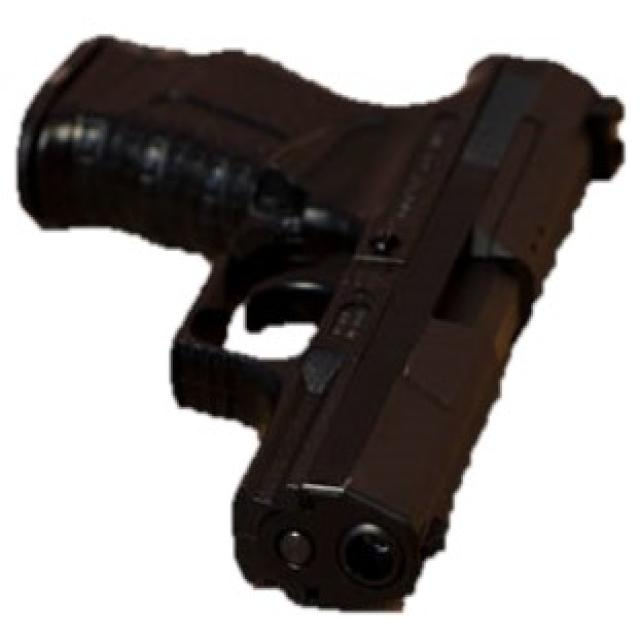pistol: (16, 22, 631, 623)
